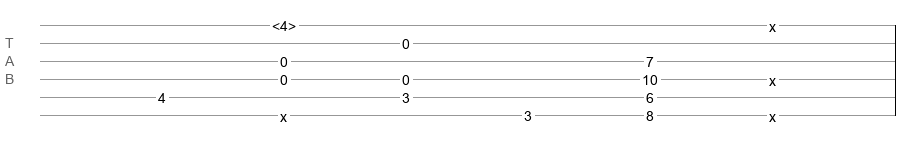0: (280, 54, 288, 64), (280, 72, 288, 82), (402, 72, 410, 82), (402, 36, 410, 46)
10: (642, 72, 658, 82)
3: (402, 90, 410, 100), (524, 108, 532, 118)
4: (158, 90, 166, 100)
6: (646, 90, 654, 100)
7: (646, 54, 654, 64)
8: (646, 108, 654, 118)
harmonic: (272, 18, 296, 28)
x: (280, 109, 287, 117), (769, 109, 776, 117), (769, 73, 776, 81), (769, 19, 776, 27)
